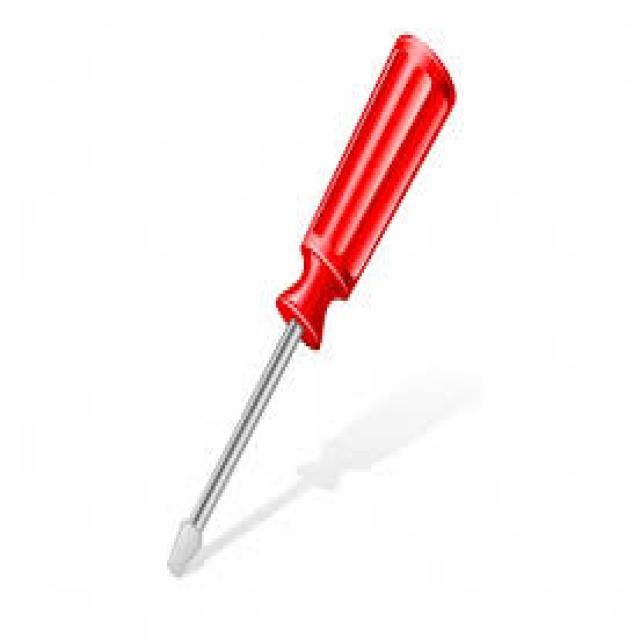screw driver: (74, 17, 514, 602)
